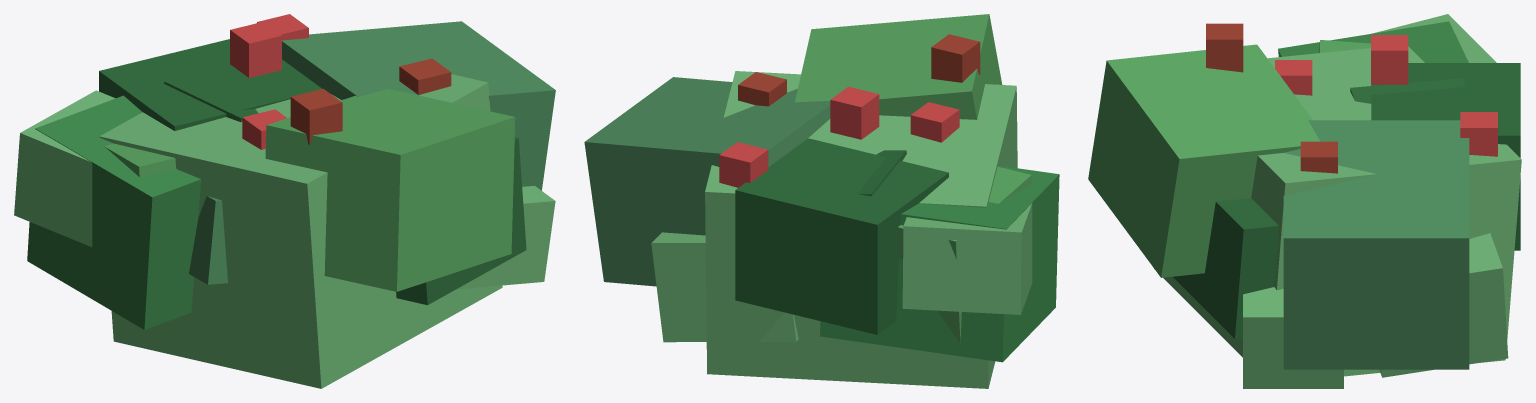
File: vn_nature_berry_bush.glb
3 views of the same model, side by side, from view 1: azimuth 30°, elevation 25°; view 2: azimuth 150°, elevation 25°; view 3: azimuth 270°, elevation 25° (orthographic). The views are drawn at different scales.
Visible parts, largest first — view 1: berry_bush_leaves; view 2: berry_bush_leaves; view 3: berry_bush_leaves.
Boxes of the visible parts, <box> form: berry_bush_leaves: <box>14,14,555,388</box>; berry_bush_leaves: <box>584,14,1059,388</box>; berry_bush_leaves: <box>1088,14,1521,388</box>.
Bounding box in the file's own units: 1.11 × 0.6375 × 0.9262.
